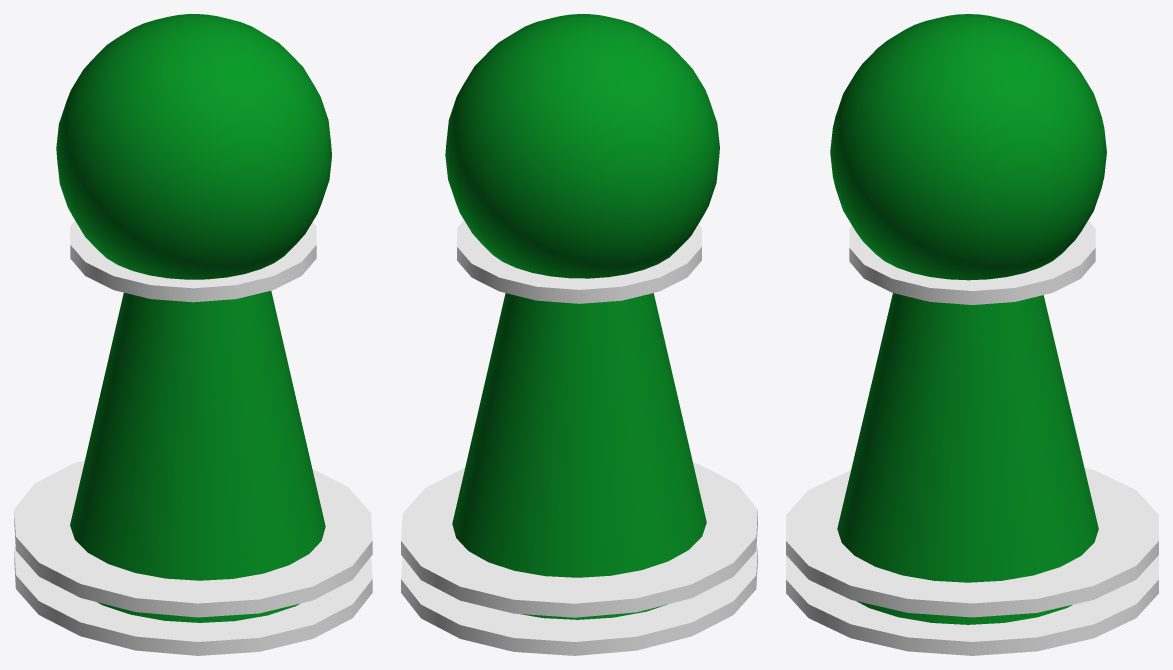
Rendered from Smoker NPC.DAE.
3 renders of one model, left to right at view 1: azimuth 30°, elevation 25°; view 2: azimuth 150°, elevation 25°; view 3: azimuth 270°, elevation 25°, orthographic.
Visible parts, largest first — view 1: Sphere001; view 2: Sphere001; view 3: Sphere001.
Boxes of the visible parts, left/top/right/bottom form: Sphere001: left=14, top=14, right=372, bottom=655; Sphere001: left=401, top=14, right=757, bottom=655; Sphere001: left=786, top=14, right=1158, bottom=655.
Bounding box in the file's own units: 0.1753 × 0.2991 × 0.1827.
